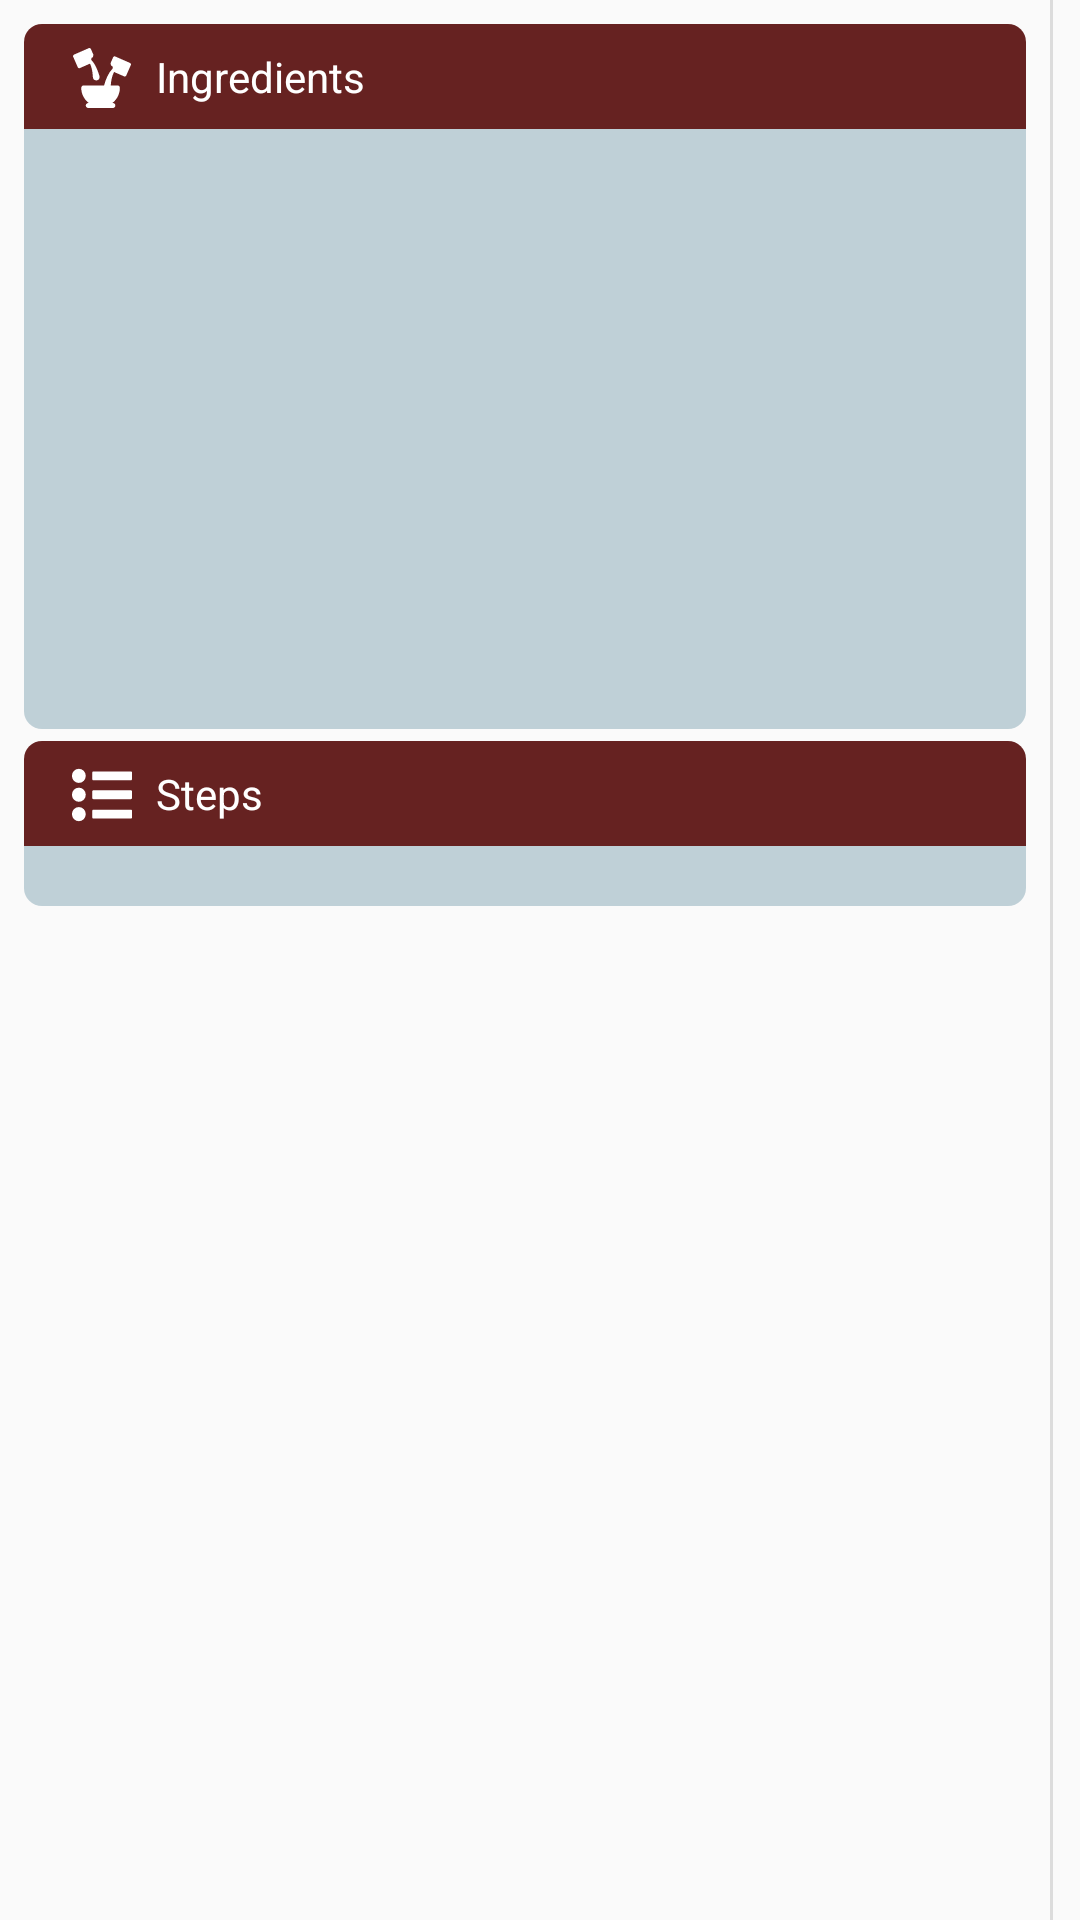

Named icons in this screenshot (1080*1920) and their bounding boxes, rect(x1, y1, x2, y2):
list with bullets: rect(72, 768, 132, 822)
